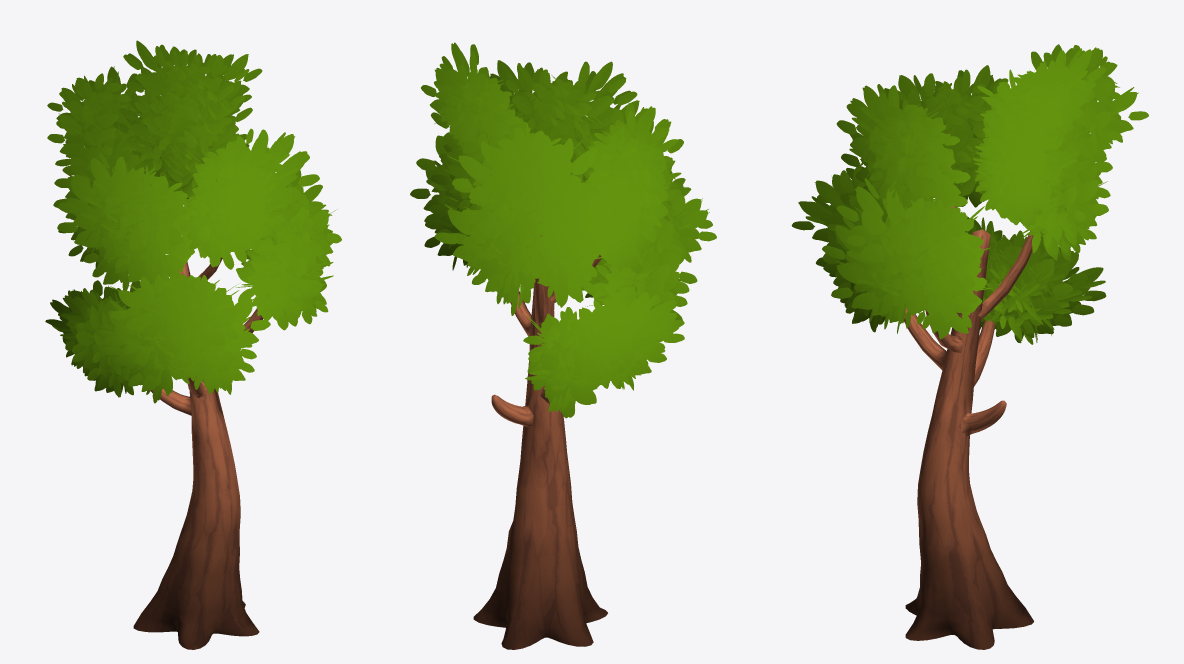
Rendered from CommonTree_5.gltf.
The picture shows the model from 3 angles, left to right: view 1: azimuth 30°, elevation 25°; view 2: azimuth 150°, elevation 25°; view 3: azimuth 270°, elevation 25°; orthographic projection. The views are drawn at different scales.
Parts seen in each view (by area): view 1: CommonTree_5; view 2: CommonTree_5; view 3: CommonTree_5.
Boxes of the visible parts, <box> form: CommonTree_5: <box>45,40,341,649</box>; CommonTree_5: <box>410,42,716,649</box>; CommonTree_5: <box>791,44,1148,649</box>.
Bounding box in the file's own units: 3.67 × 7.01 × 4.22.
2 materials, 2 textured.
